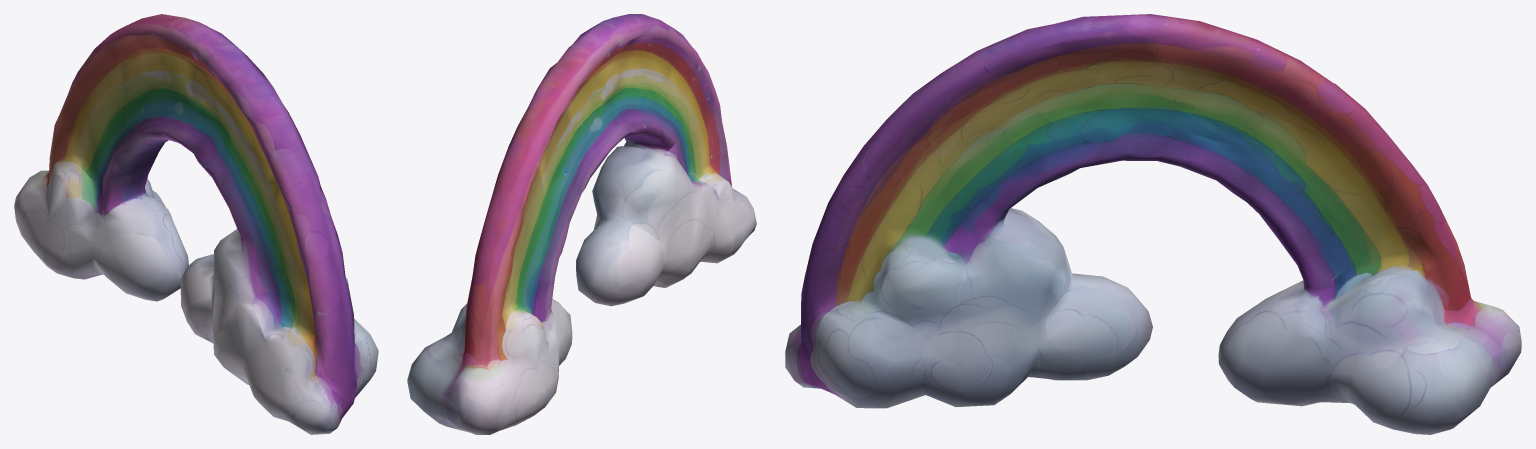
File: rainbox2_Main.fbx
3 renders of one model, left to right at view 1: azimuth 30°, elevation 25°; view 2: azimuth 150°, elevation 25°; view 3: azimuth 270°, elevation 25°, orthographic. The views are drawn at different scales.
Parts seen in each view (by area): view 1: raimbow_2; view 2: raimbow_2; view 3: raimbow_2.
Part boxes in pixels (left/top/right/bottom): raimbow_2: left=14, top=14, right=378, bottom=434; raimbow_2: left=407, top=14, right=756, bottom=434; raimbow_2: left=785, top=14, right=1521, bottom=434.
Size of the model in its own units: 33.53 by 82.68 by 137.
